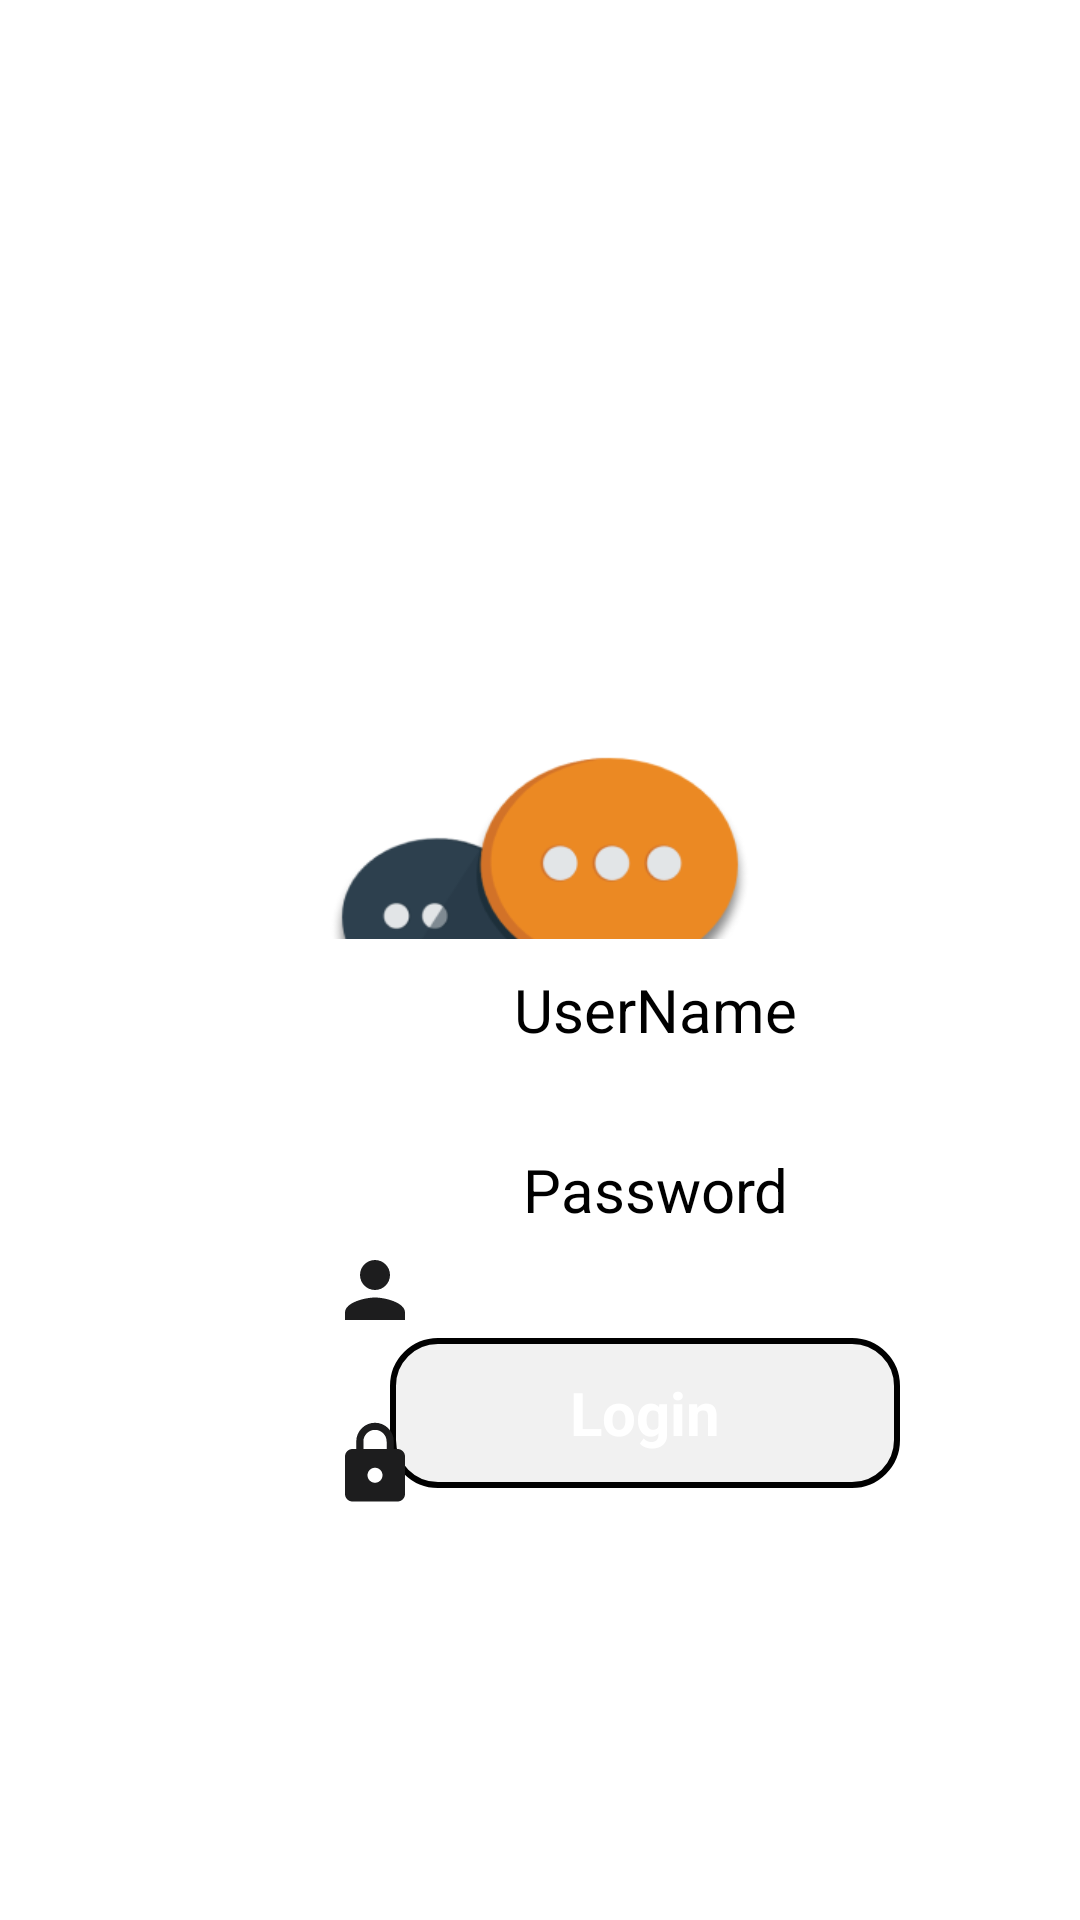

Screen size 1080w x 1920h. Icon name, then its box in pixels as (x1, y1, x2, y2):
lock: (345, 1389, 420, 1502)
person: (345, 1260, 405, 1320)
